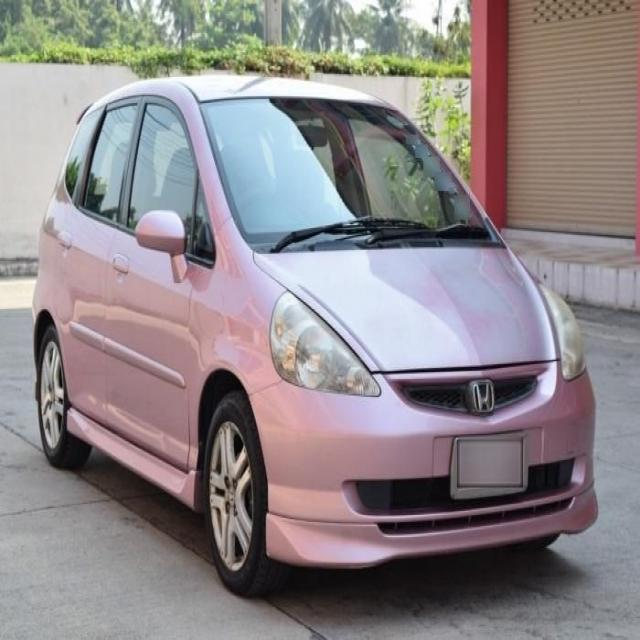back_right_door: (54, 96, 144, 421)
front_bumper: (246, 358, 596, 567)
front_glass: (197, 97, 504, 251)
front_left_light: (541, 280, 590, 382)
front_right_door: (106, 94, 199, 471)
front_right_light: (269, 288, 382, 397)
hood: (254, 246, 562, 374)
right_mirror: (134, 208, 188, 283)
wheel: (205, 394, 288, 597), (37, 328, 92, 469)
